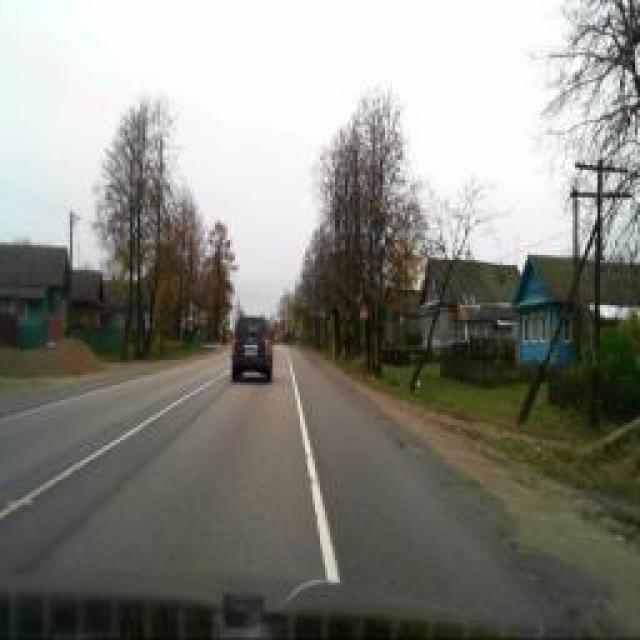sign: (359, 301, 369, 319)
